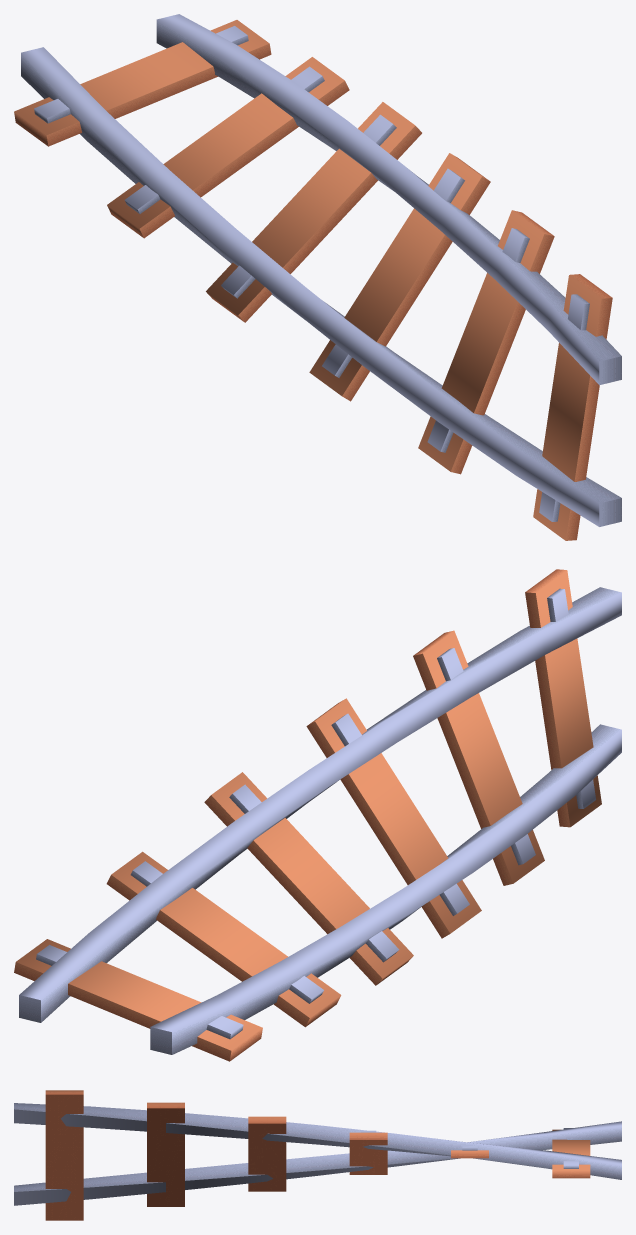
Rendered from railroad-straight-skew-right-side.glb.
3 views of the same model, one above another, from view 1: azimuth 30°, elevation 25°; view 2: azimuth 150°, elevation 25°; view 3: azimuth 270°, elevation 25° (orthographic). The views are drawn at different scales.
Visible parts, largest first — view 1: railroad-straight-skew-right-side; view 2: railroad-straight-skew-right-side; view 3: railroad-straight-skew-right-side.
Part boxes in pixels (left/top/right/bottom): railroad-straight-skew-right-side: left=14, top=14, right=621, bottom=540; railroad-straight-skew-right-side: left=14, top=569, right=621, bottom=1061; railroad-straight-skew-right-side: left=14, top=1090, right=621, bottom=1220.
Bounding box in the file's own units: 0.9953 × 0.9953 × 4.
1 material, 1 textured.
